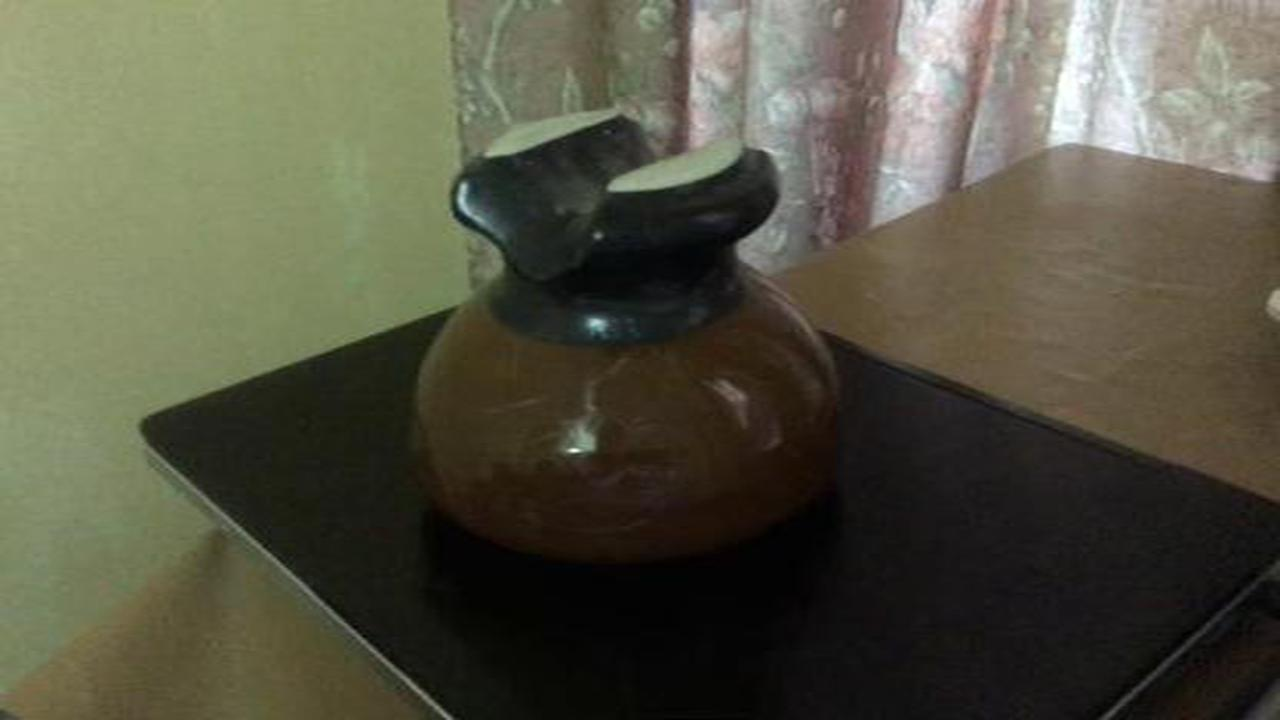insulator_pin: (381, 99, 871, 584)
